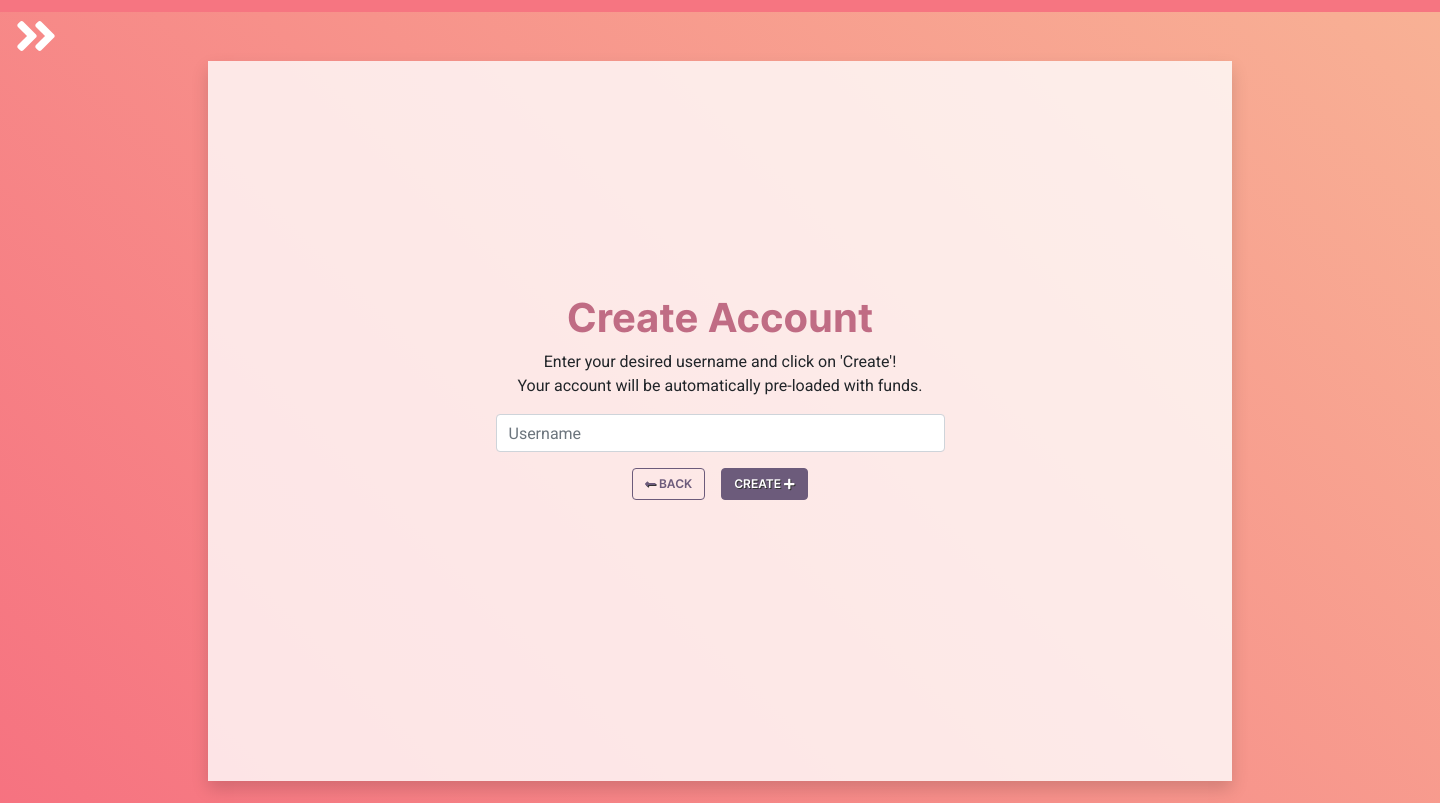
Create Account › should navigate back to the 'Home' page
Click the link to "/" at (670, 484), box [633,468,706,500]
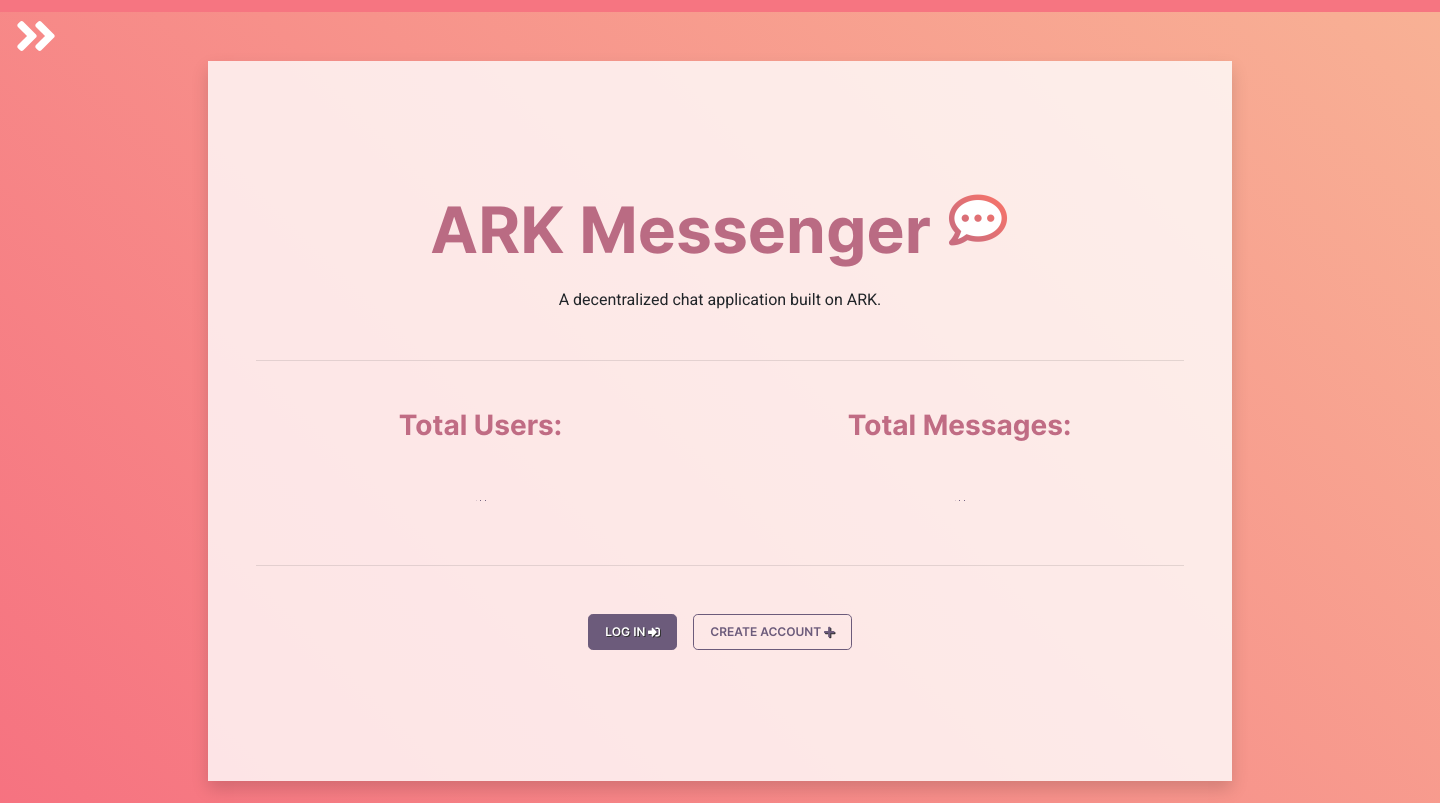
expect the heading "ARK Messenger" is shown: met, box [430,191,1010,268]
